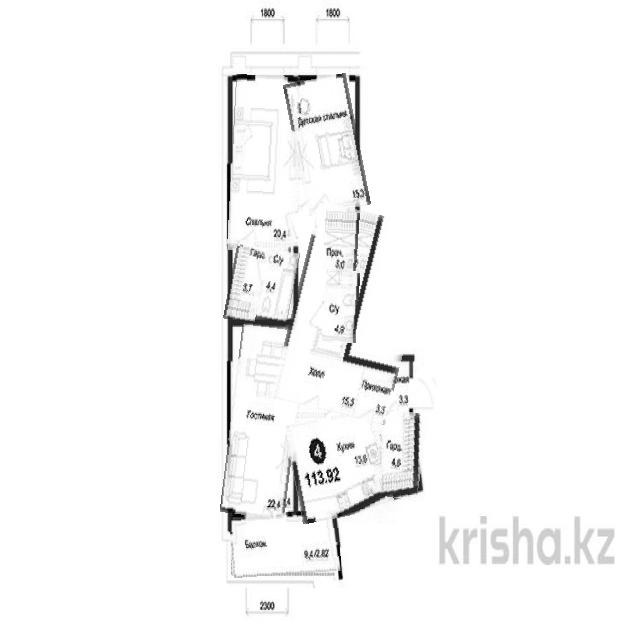balcony: (229, 511, 340, 577)
bathroom: (258, 249, 298, 325), (323, 270, 359, 342), (323, 210, 359, 270)
hallway: (275, 200, 399, 425)
kitchen: (290, 411, 392, 520)
living_room: (225, 321, 302, 518), (230, 75, 298, 252), (289, 75, 365, 214)
other: (381, 412, 418, 496), (227, 247, 265, 323)
